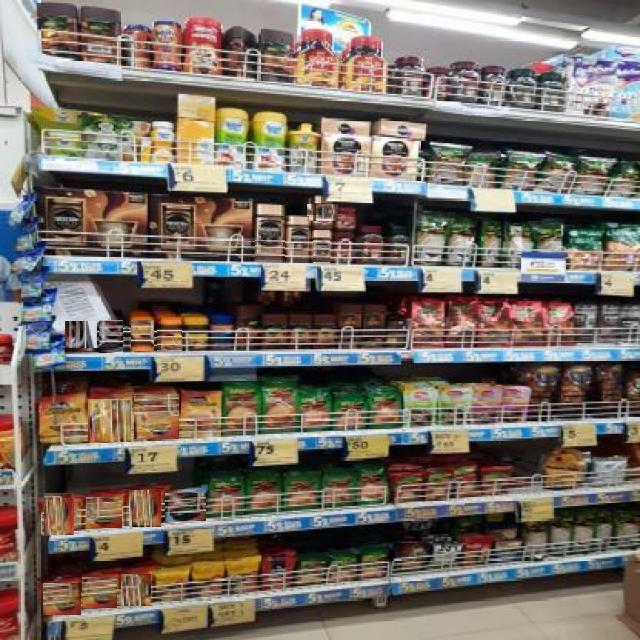Coffee: (40, 397, 87, 442), (134, 393, 179, 439), (180, 392, 222, 436), (89, 398, 131, 442), (255, 204, 285, 261), (42, 582, 81, 615), (43, 494, 74, 535), (164, 492, 206, 521), (128, 491, 161, 527), (85, 496, 122, 528), (82, 576, 117, 608), (288, 216, 309, 262), (121, 574, 151, 606), (65, 322, 97, 348), (99, 319, 123, 353), (157, 319, 182, 351), (130, 320, 154, 351), (313, 231, 330, 263), (307, 204, 338, 221)
